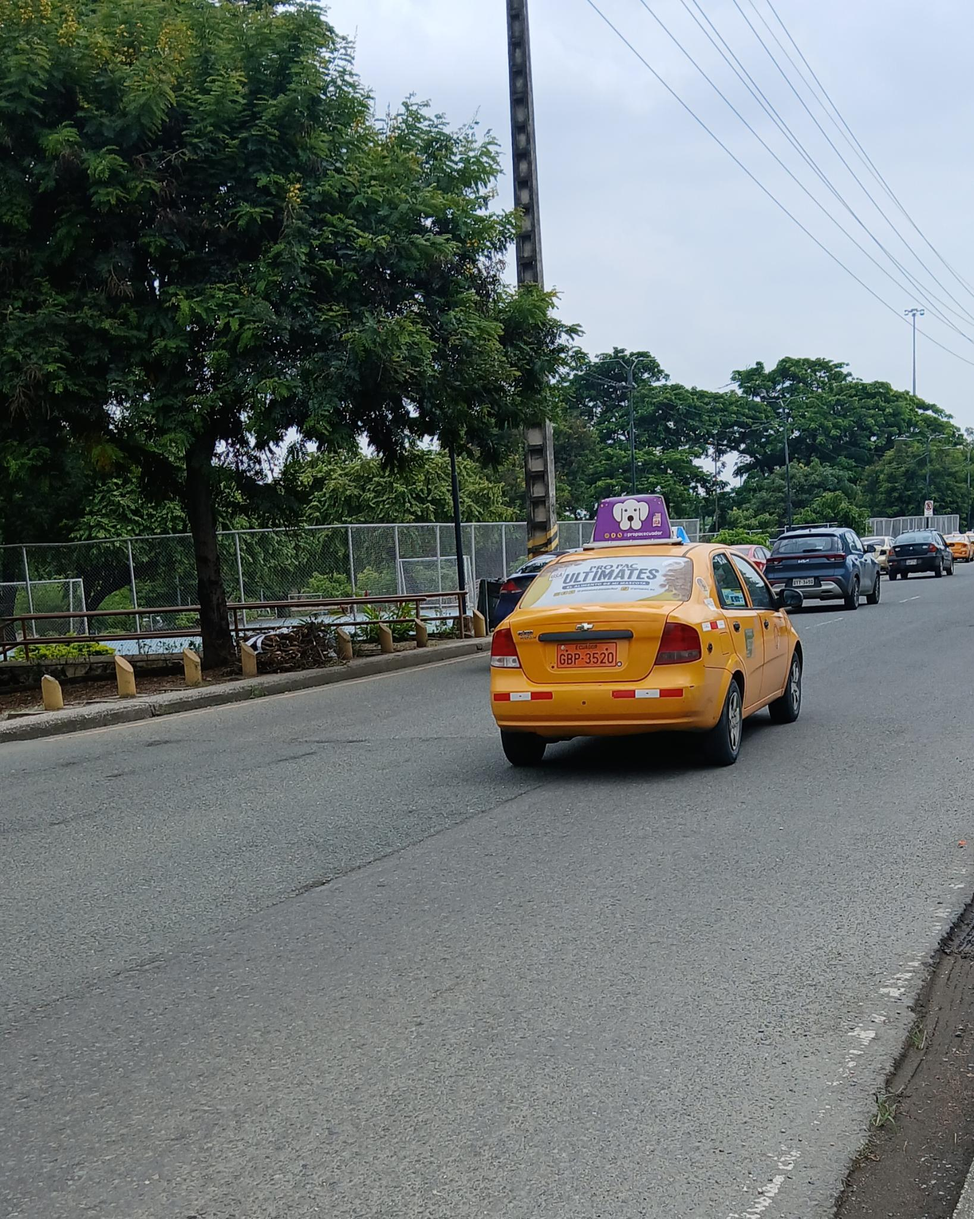license_plate: (555, 642, 619, 667), (791, 577, 817, 586), (904, 558, 919, 565)
